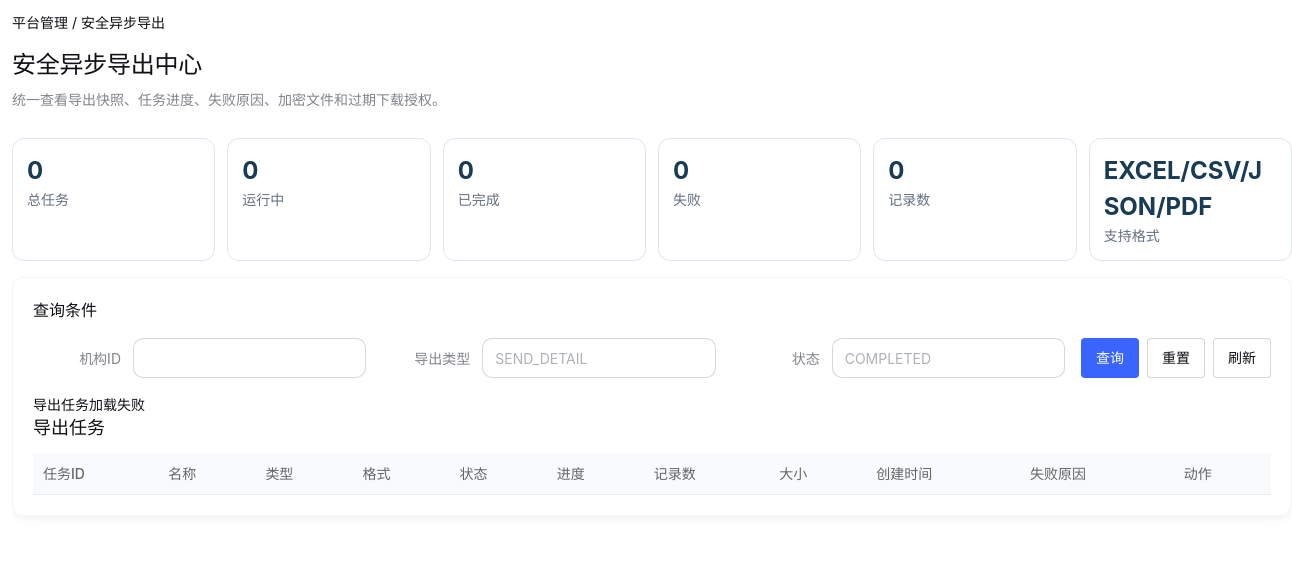
Phase 46 secure async export UI › retries an initially failed object-filter query when criteria are unchanged
Step 1. Click the button with test id "query-submit" → (1110, 358), box [1081,338,1139,378]
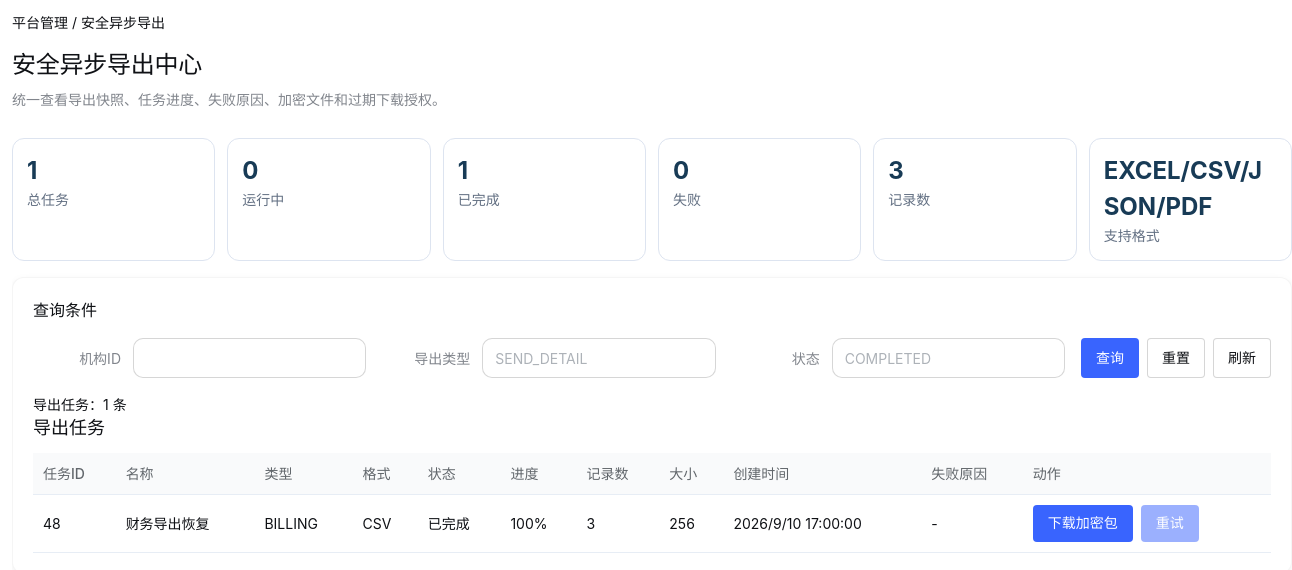
Expected: the row with test id "admin-secure-async-export-center-row" shows "财务导出恢复", [126,515,210,532]
